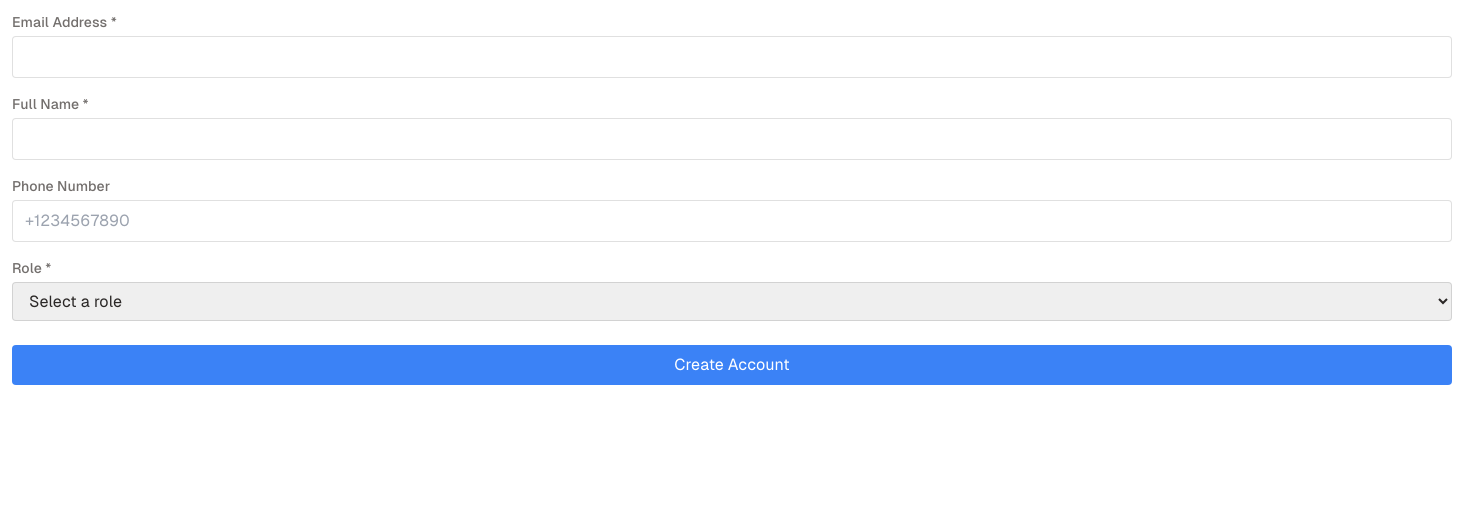
Test: CreateAccountForm › Form Validation › validates phone number format
The image size is (1464, 508).
Fill form with invalid phone
Type "test@example.com" into the field labelled "Email Address *" at (732, 57), box [12, 36, 1452, 78]
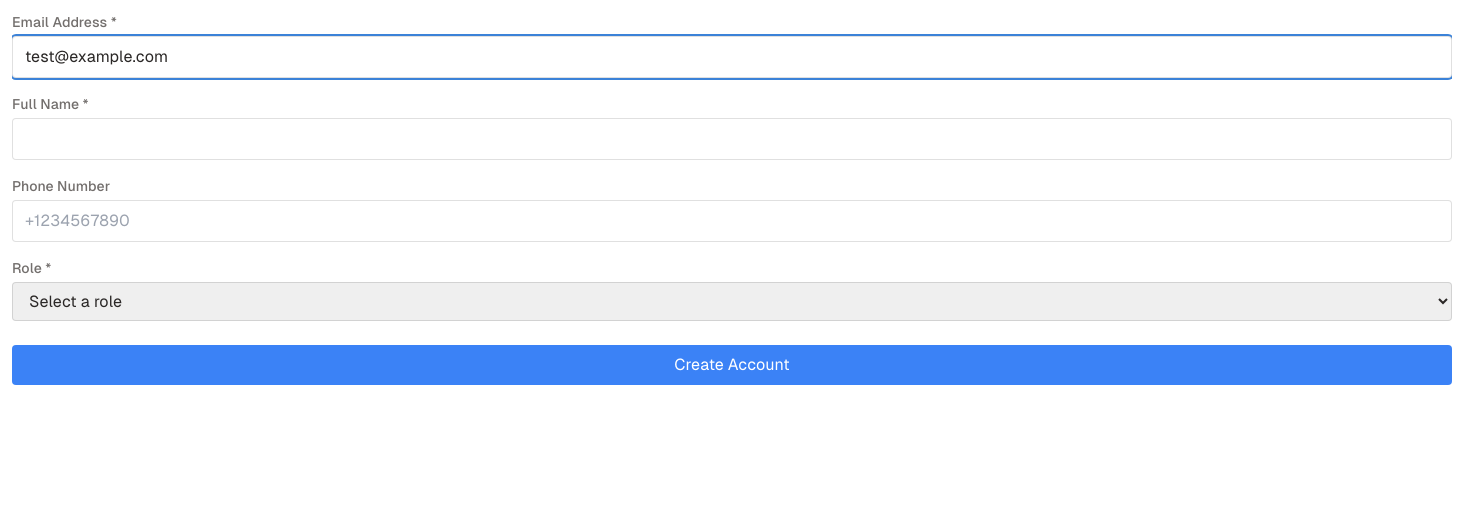
Type "Test User" into the field labelled "Full Name *" at (732, 139), box [12, 118, 1452, 160]
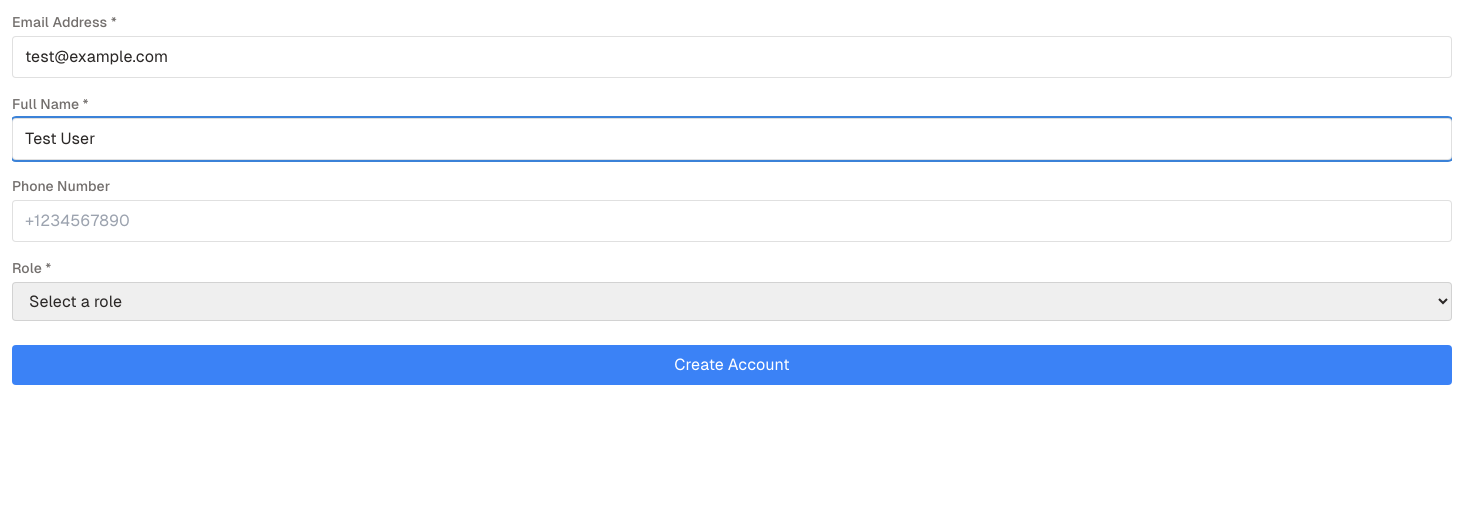
Type "abc123" into the field labelled "Phone Number" at (732, 221), box [12, 200, 1452, 242]
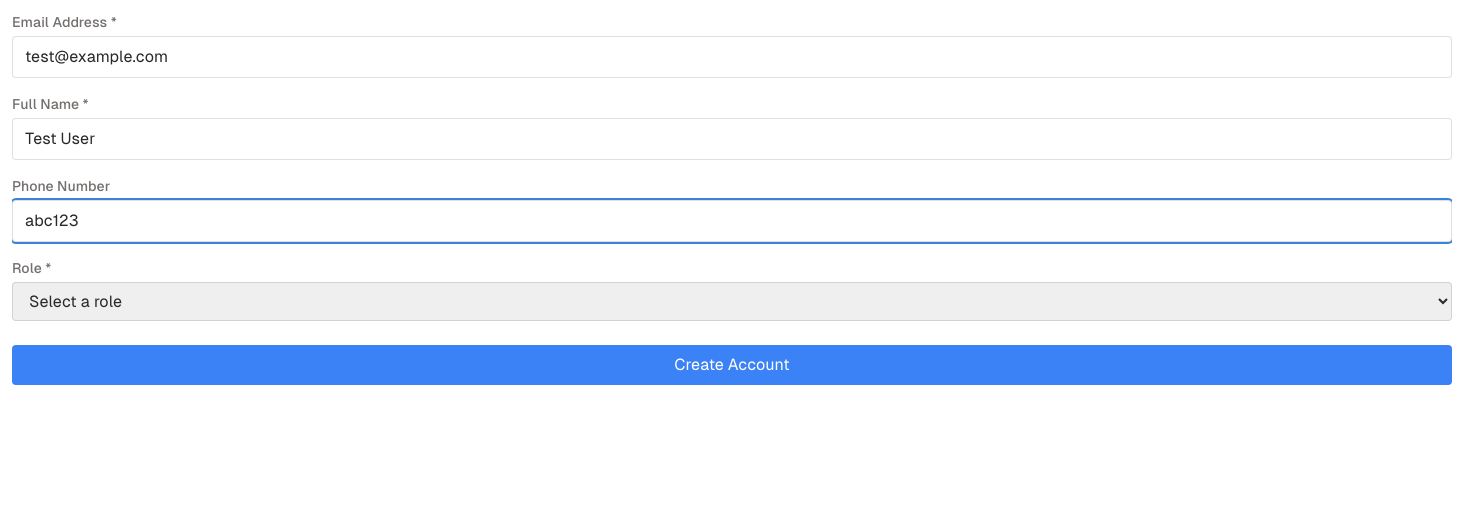
Select "User" in the dropdown labelled "Role *" at (732, 302), box [12, 282, 1452, 321]
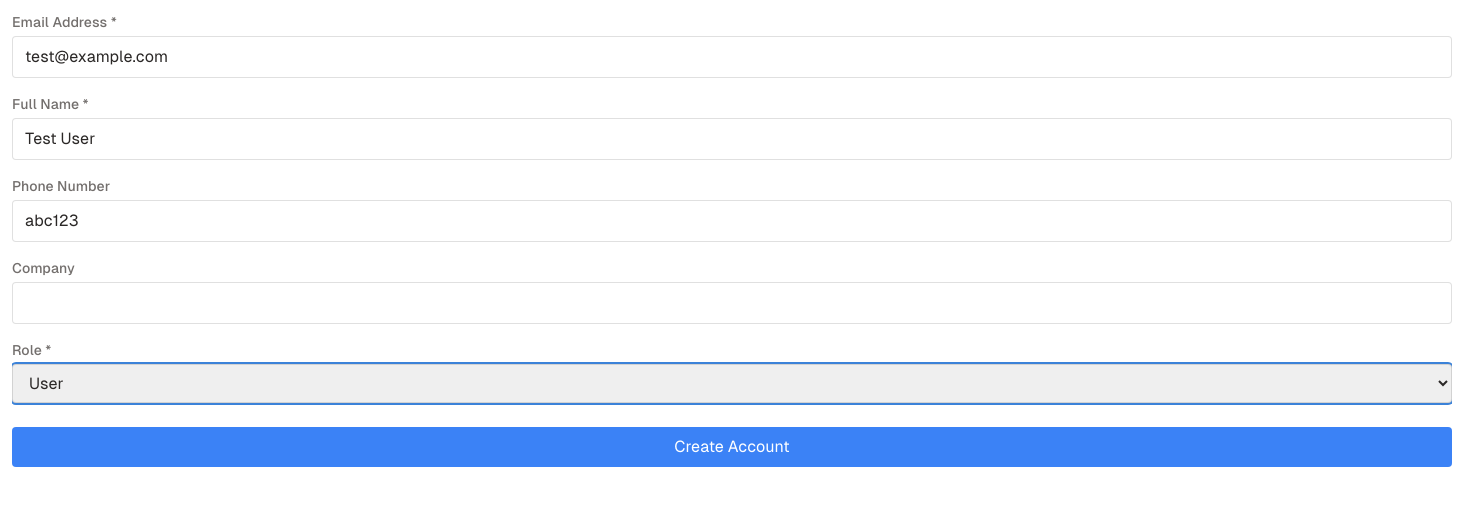
Submit form
Click the button "Create Account" at (732, 447), box [12, 427, 1452, 467]
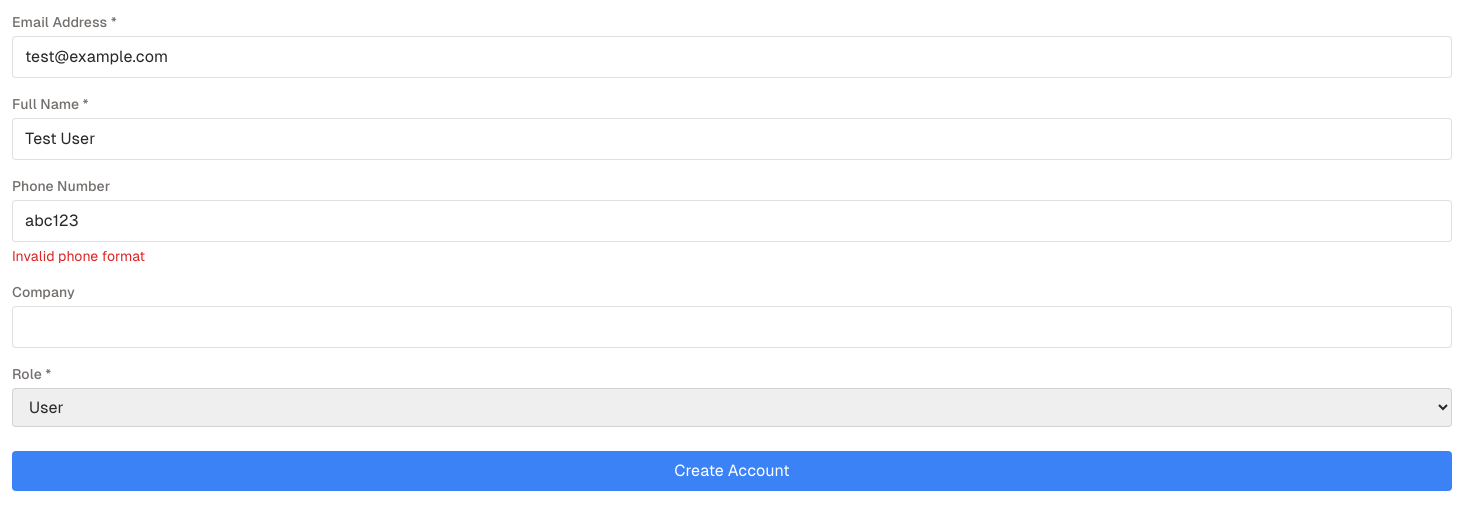
expect the text "Invalid phone format" is shown: met, box [12, 248, 145, 264]
